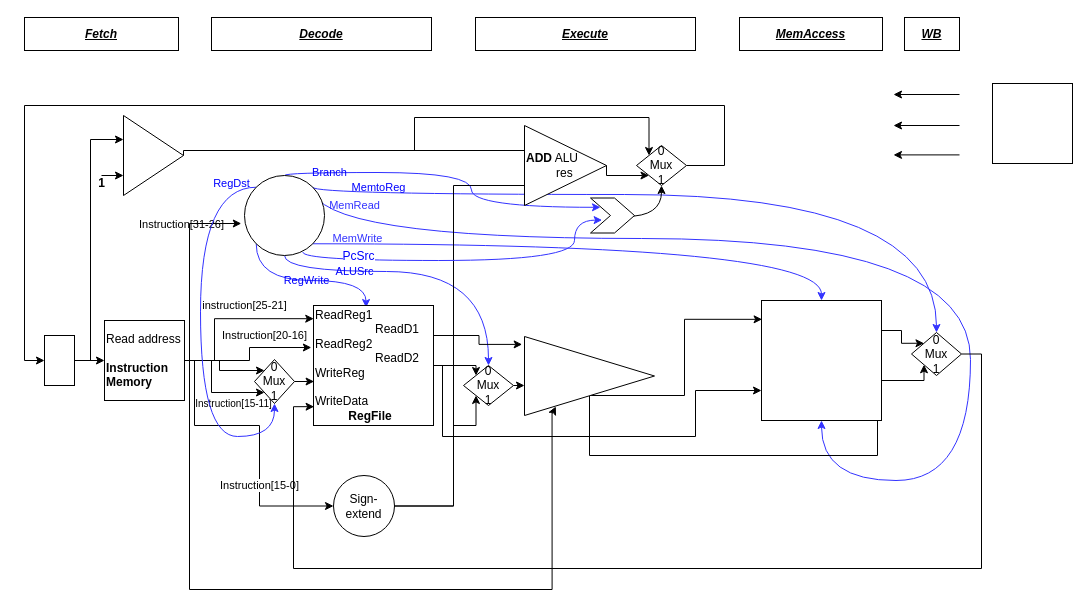
Image size: 1090x615. Some labels were removed from this diagram. Here are the shapes that lost their labels. From the top down, the centre of each, then its label:
the point at 1032,123: Nxt Add Cal
the point at 153,155: Add
the point at 284,215: Control
the point at 612,215: OR
the point at 59,360: PC
the point at 589,376: zero ALU ALU res
the point at 821,360: Address Read data Write data Data mem Memory
